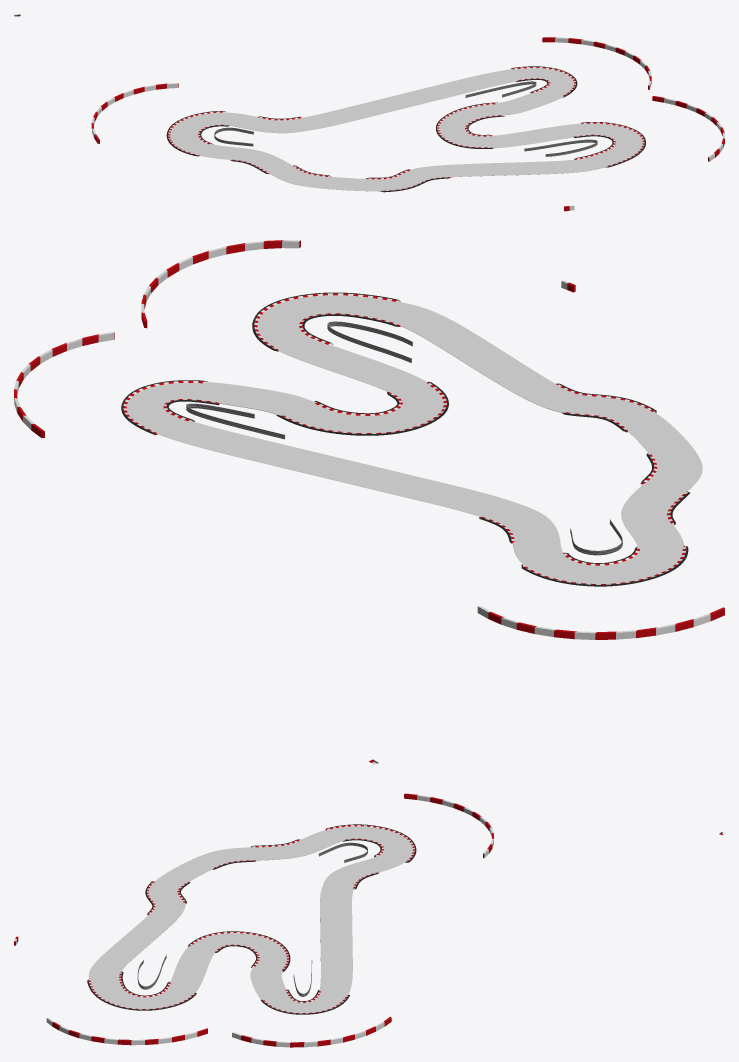
Rendered from track7.fbx.
The picture shows the model from 3 angles, top to bottom: view 1: azimuth 30°, elevation 25°; view 2: azimuth 150°, elevation 25°; view 3: azimuth 270°, elevation 25°; orthographic projection. The views are drawn at different scales.
Visible parts, largest first — view 1: TRACK, CURB, BAND_1, BAND_3, BAND_2, BAND_G_2, BAND_G_3; view 2: TRACK, CURB, BAND_3, BAND_2, BAND_1, BAND_G_2, BAND_G_3; view 3: TRACK, CURB, BAND_2, BAND_1, BAND_3.
Boxes of the visible parts, x1,y1,x2,y2 form: TRACK: (170, 68, 642, 191); CURB: (166, 66, 645, 192); BAND_1: (542, 37, 651, 89); BAND_3: (91, 83, 178, 143); BAND_2: (652, 96, 724, 161); BAND_G_2: (524, 139, 597, 156); BAND_G_3: (465, 81, 536, 97); TRACK: (126, 295, 702, 583); CURB: (121, 292, 690, 586); BAND_3: (477, 606, 724, 639); BAND_2: (141, 240, 300, 328); BAND_1: (14, 331, 114, 437); BAND_G_2: (327, 321, 412, 362); BAND_G_3: (186, 403, 284, 439); TRACK: (88, 826, 412, 1012); CURB: (87, 824, 416, 1014); BAND_2: (46, 1018, 207, 1045); BAND_1: (232, 1016, 391, 1047); BAND_3: (404, 793, 493, 858).
Bounding box in the file's own units: 111 × 0.9853 × 133.
